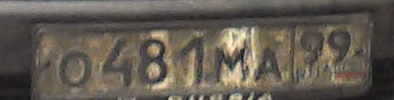character: (100, 36, 136, 88), (136, 36, 168, 89), (214, 38, 251, 83), (59, 46, 96, 89), (178, 34, 208, 86), (298, 23, 325, 69), (255, 44, 285, 84), (325, 26, 354, 67)
